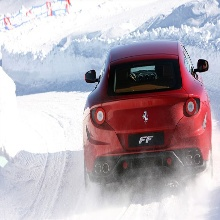no damage: (83, 40, 214, 182)
